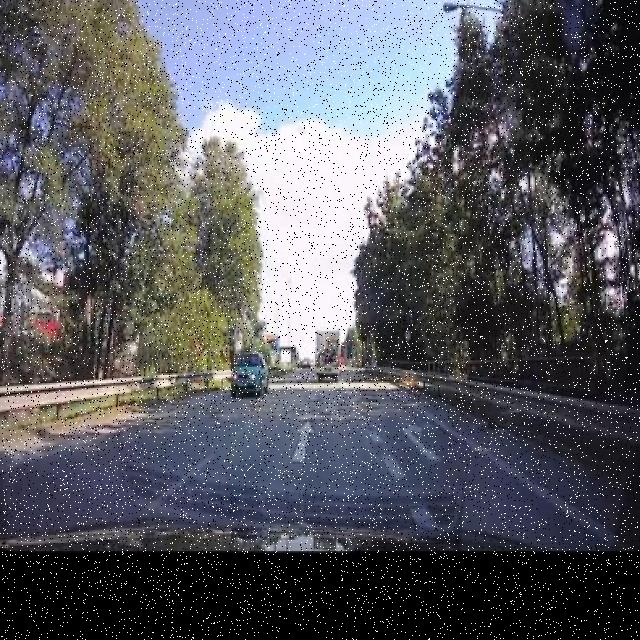clear-road: (121, 393, 471, 488)
